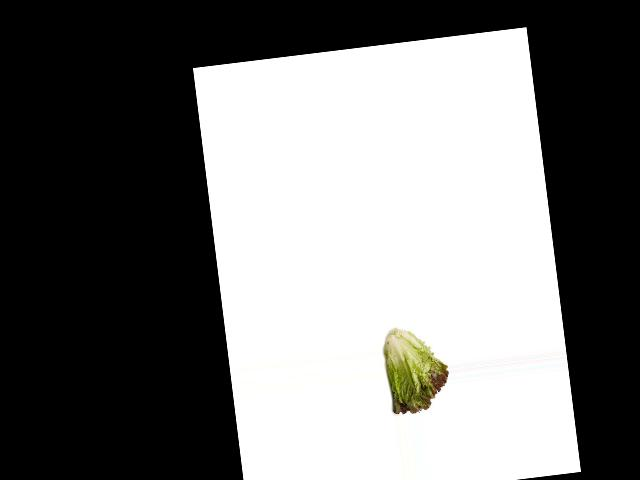lettuce: (382, 324, 452, 417)
